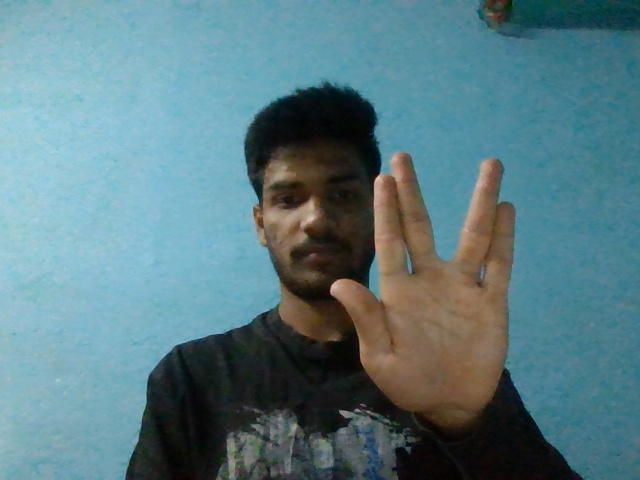Live Long: (330, 152, 518, 409)
